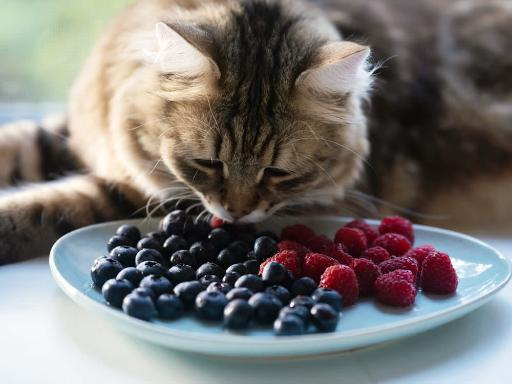cat_eating: (1, 0, 512, 358)
